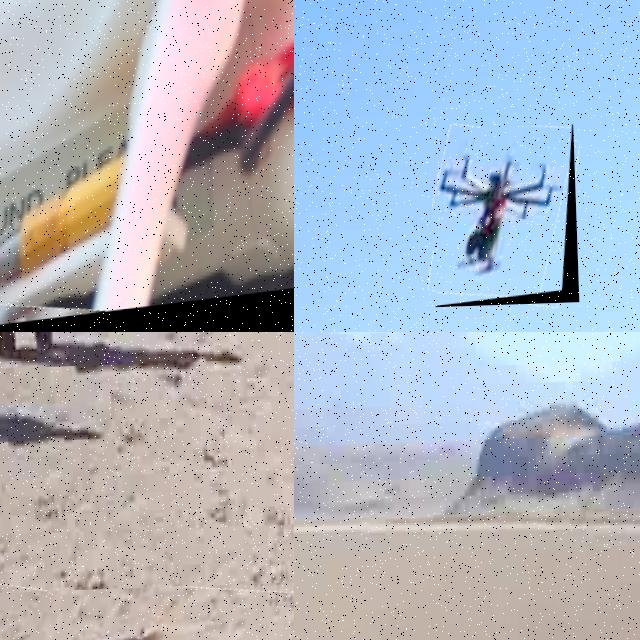drone: (0, 0, 294, 332), (429, 124, 579, 307)
